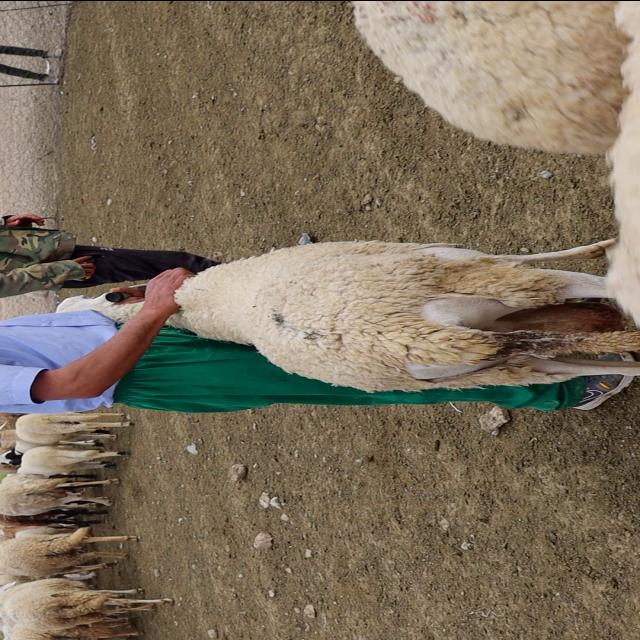Score_2: (167, 238, 639, 391)
